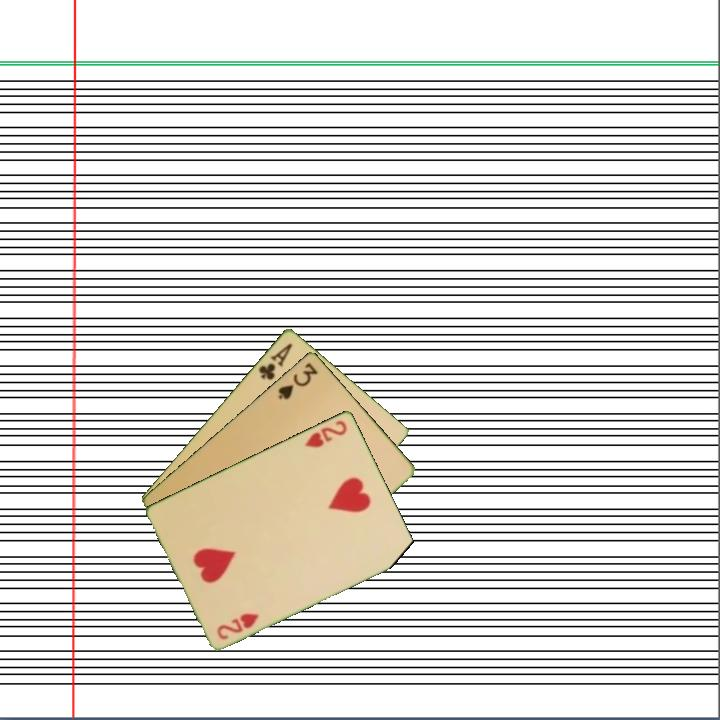2h: (301, 416, 350, 450), (213, 609, 262, 642)
3s: (274, 358, 321, 402)
Ac: (255, 339, 295, 383)
